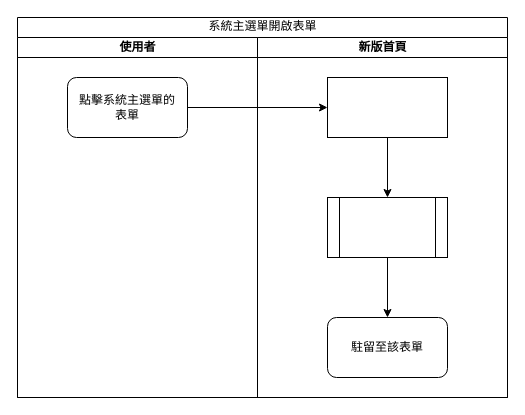
Image size: 525x415. Some labels were removed from this diagram. The shapes that lost their labels are listed below. From the top down, each one's centre as x and y in pixels, then its label:
At pixel 387 107: "取得表單資訊 進行開啟表單".
At pixel 387 227: "開啟表單流程".
